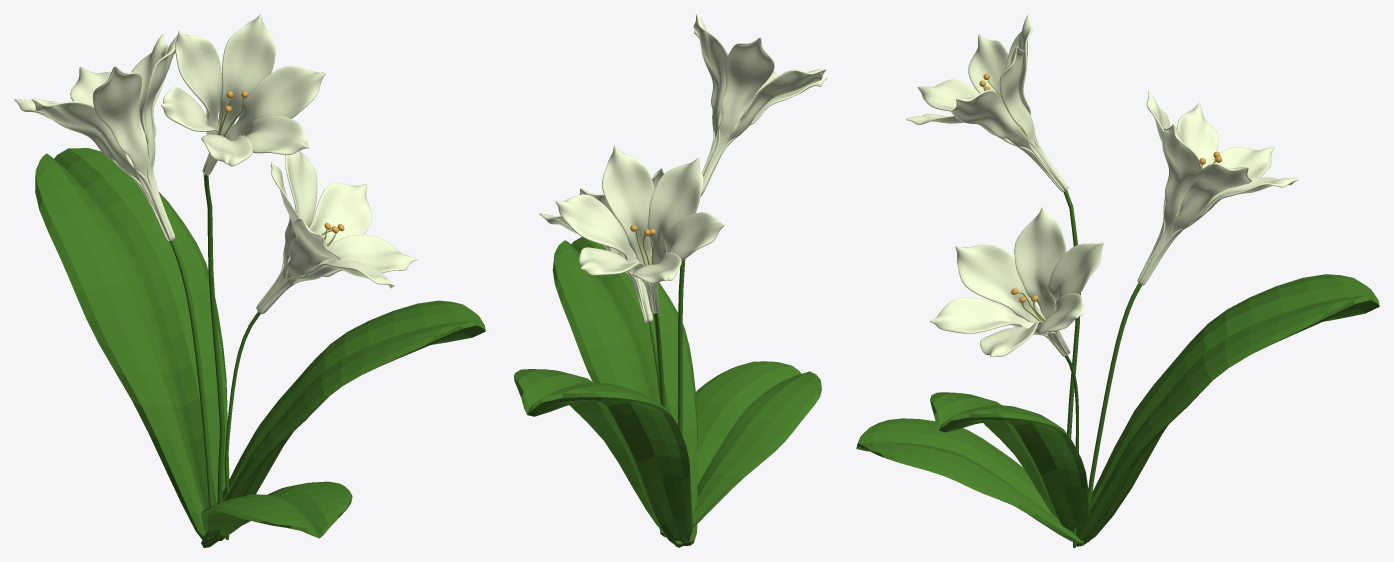
File: flower_FINAL.fbx
3 views of the same model, side by side, from view 1: azimuth 30°, elevation 25°; view 2: azimuth 150°, elevation 25°; view 3: azimuth 270°, elevation 25° (orthographic). The views are drawn at different scales.
Parts seen in each view (by area): view 1: Plane, BezierCurve.003, Plane.001, BezierCurve.008, BezierCurve.004, Plane.002, BezierCurve.006, BezierCurve.007, BezierCurve.009; view 2: Plane.001, BezierCurve.004, Plane, Plane.002, BezierCurve.003, BezierCurve.008, BezierCurve.006, BezierCurve.007; view 3: Plane, BezierCurve.008, BezierCurve.004, Plane.002, Plane.001, BezierCurve.003, BezierCurve.007, BezierCurve.006.
Part boxes in pixels (<box>): Plane: <box>35,148,229,541</box>; BezierCurve.003: <box>160,14,326,175</box>; Plane.001: <box>201,300,485,547</box>; BezierCurve.008: <box>256,150,417,314</box>; BezierCurve.004: <box>14,34,177,241</box>; Plane.002: <box>201,481,352,538</box>; BezierCurve.006: <box>203,165,224,503</box>; BezierCurve.007: <box>169,239,213,506</box>; BezierCurve.009: <box>224,312,260,539</box>; Plane.001: <box>552,237,697,547</box>; BezierCurve.004: <box>555,145,724,313</box>; Plane: <box>514,369,692,544</box>; Plane.002: <box>659,361,821,537</box>; BezierCurve.003: <box>693,14,827,195</box>; BezierCurve.008: <box>539,167,664,322</box>; BezierCurve.006: <box>678,192,702,436</box>; BezierCurve.007: <box>653,312,665,407</box>; Plane: <box>1076,274,1379,546</box>; BezierCurve.008: <box>930,207,1103,357</box>; BezierCurve.004: <box>1137,91,1298,285</box>; Plane.002: <box>856,418,1083,545</box>; Plane.001: <box>930,392,1090,542</box>; BezierCurve.003: <box>906,14,1068,192</box>; BezierCurve.007: <box>1088,283,1142,509</box>; BezierCurve.006: <box>1063,190,1080,438</box>.
Size of the model in its own units: 180 by 303 by 283.
